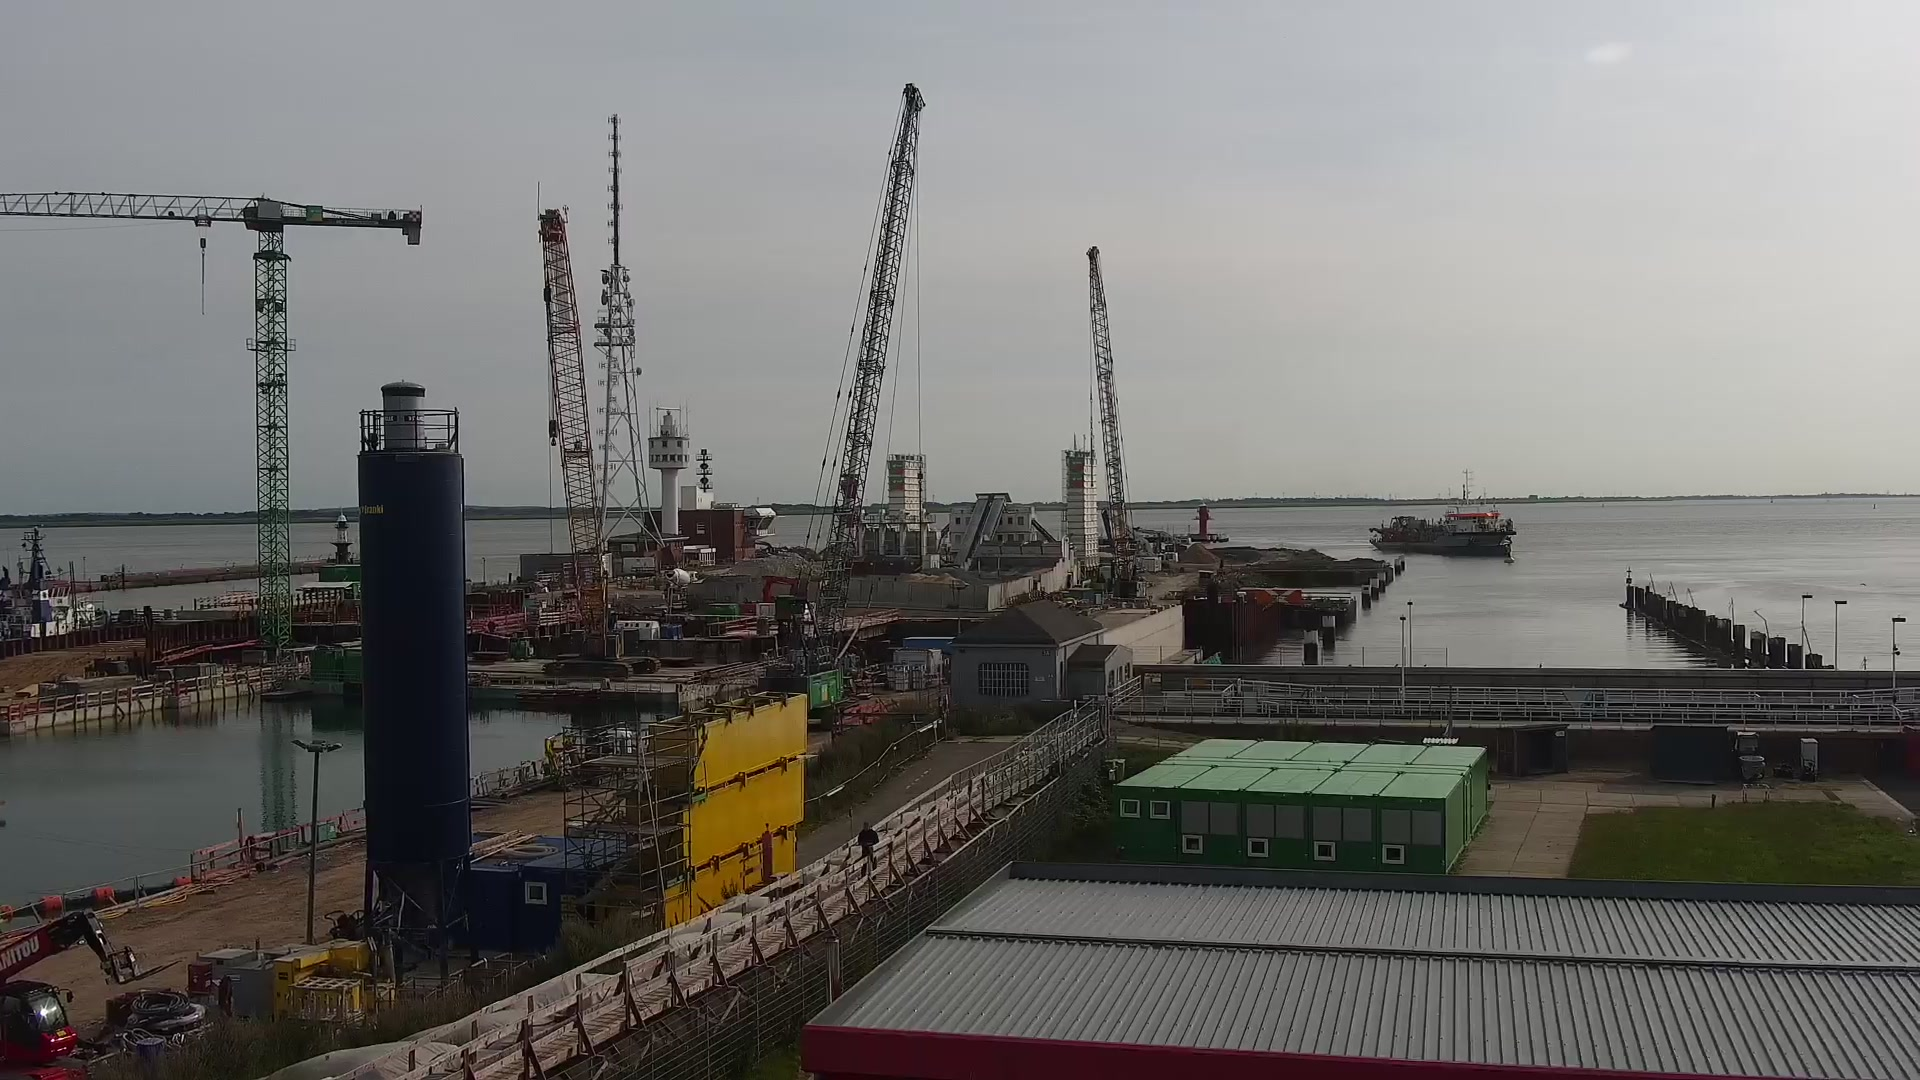human: (857, 821, 879, 879), (687, 967, 690, 975)
land: (1, 908, 182, 1080), (543, 724, 617, 790)
sea: (1368, 468, 1518, 556), (1, 526, 112, 639)
